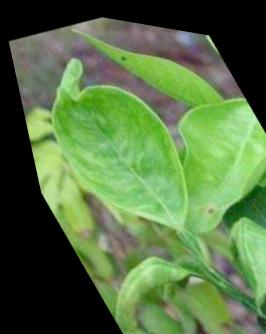Citrus Greening: (4, 24, 220, 257)
